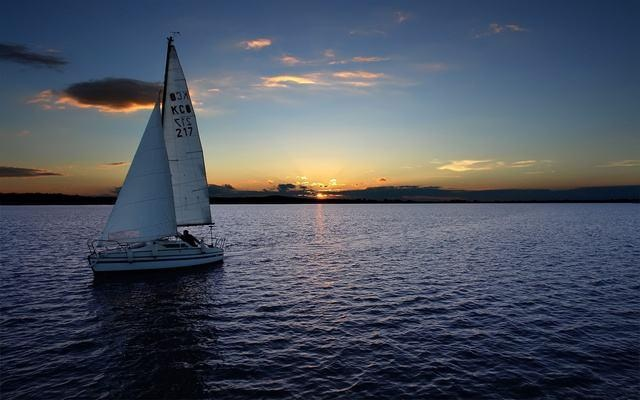fanchuan: (84, 29, 229, 281)
